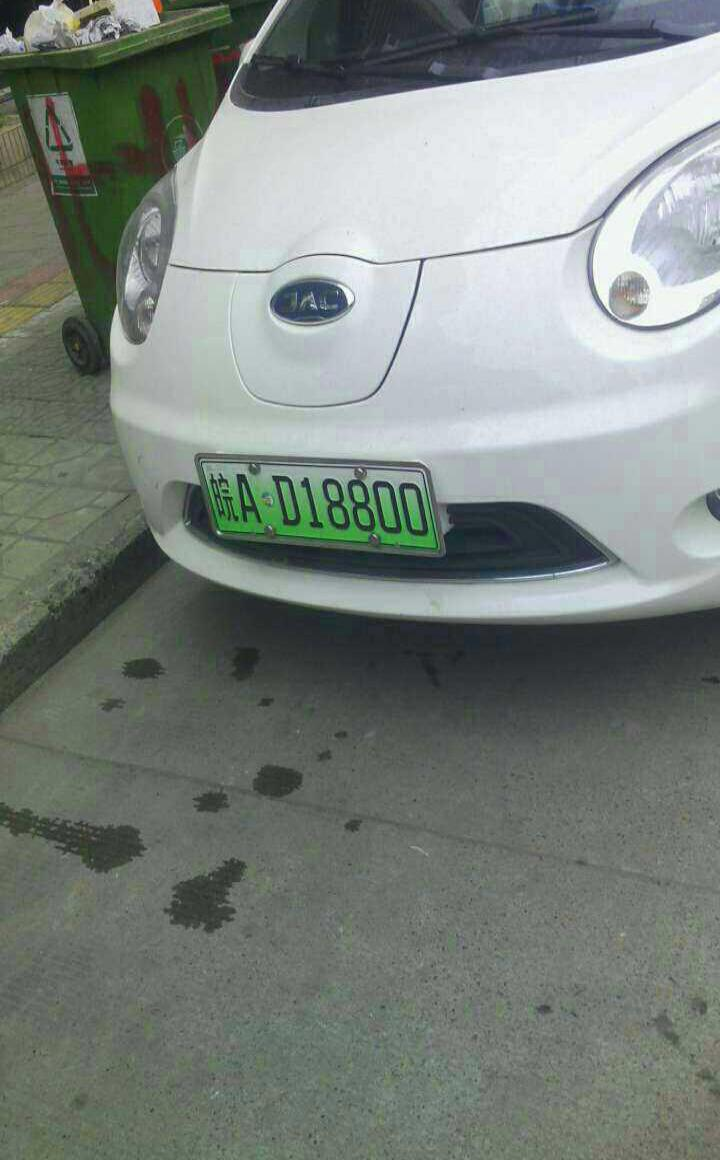car_id: (196, 454, 439, 548)
